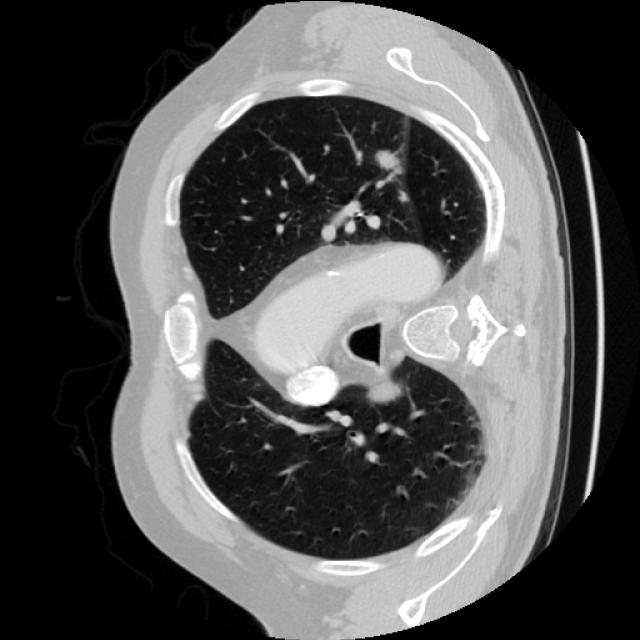nodule: (394, 188, 414, 208)
